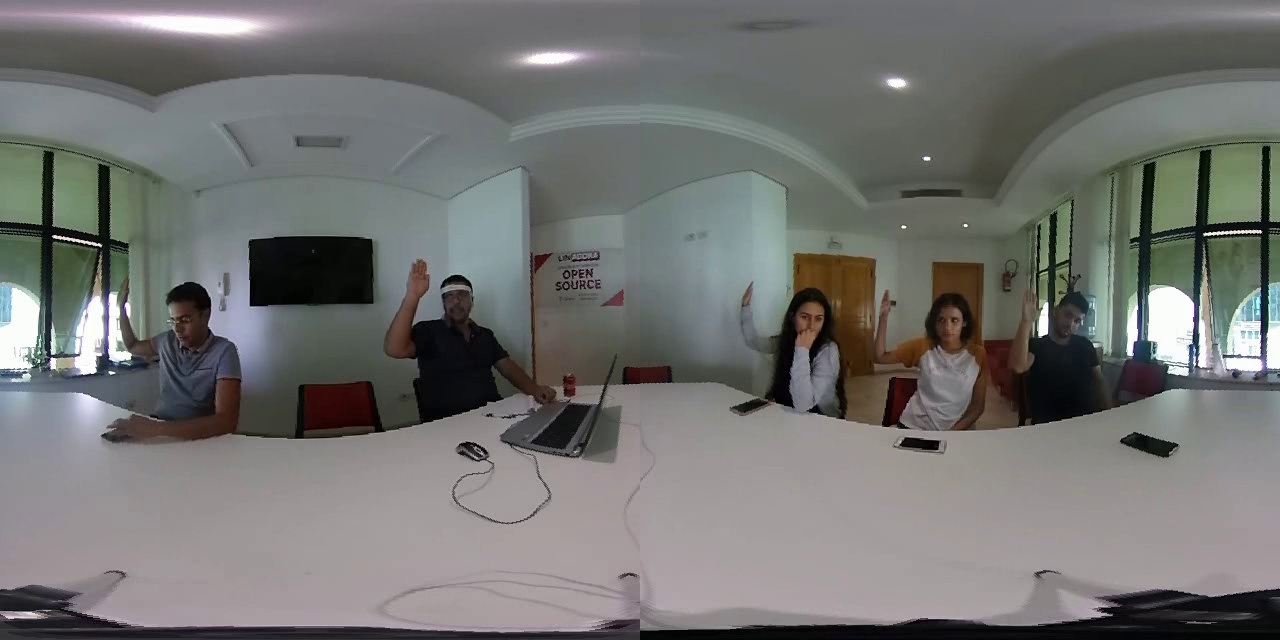person: (86, 246, 266, 460), (362, 255, 565, 419), (859, 276, 993, 434), (996, 277, 1135, 416), (725, 272, 852, 424)
voting: (379, 255, 436, 362), (106, 268, 158, 368), (867, 287, 919, 368), (1000, 285, 1040, 384), (732, 279, 779, 357)
